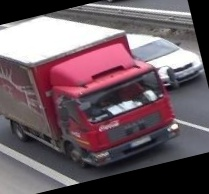car: (129, 29, 206, 96)
